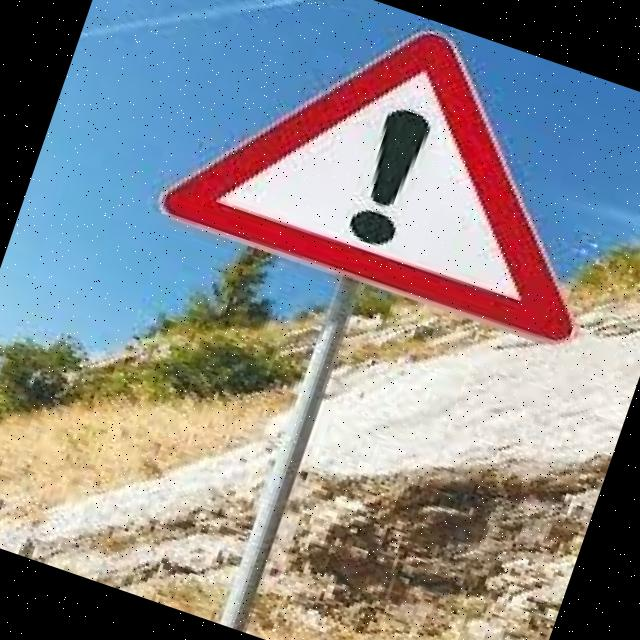warning: (149, 0, 640, 359)
